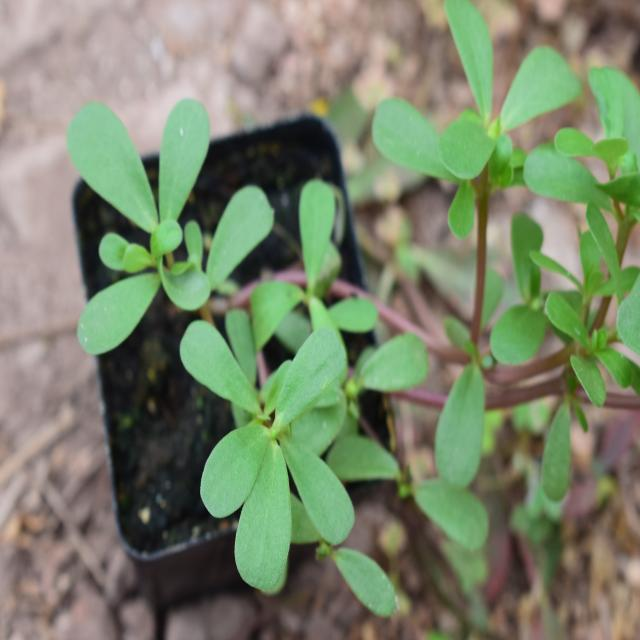purslane: (43, 6, 640, 586)
